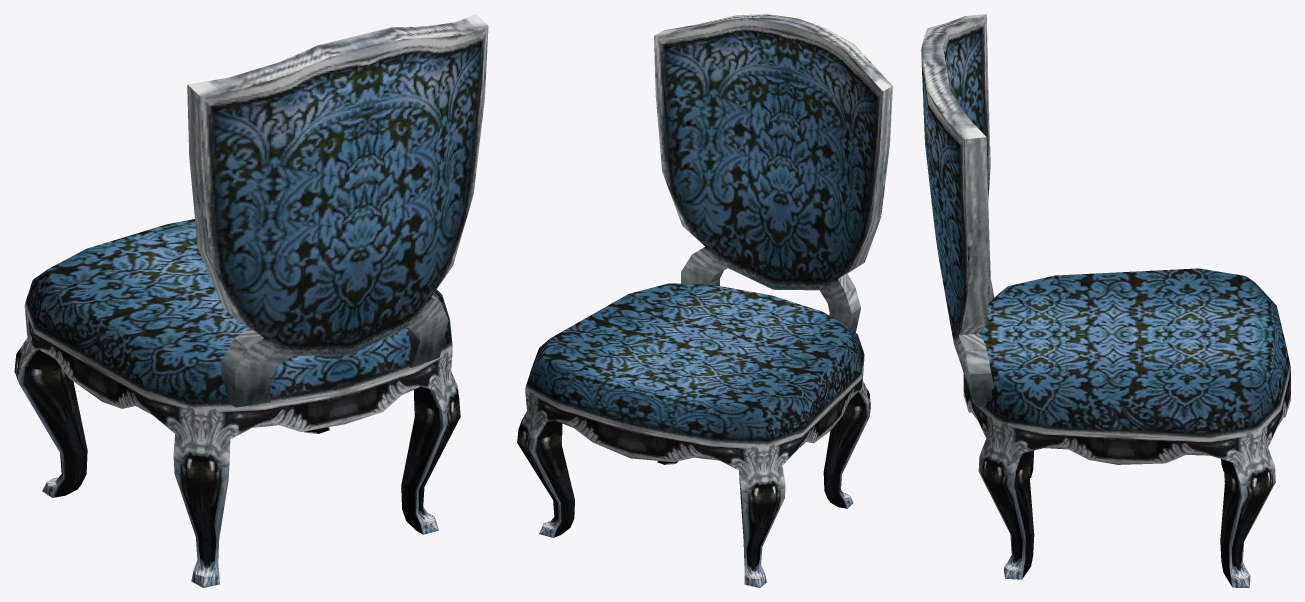
Rendered from furni_0201207_01.FBX.
3 renders of one model, left to right at view 1: azimuth 30°, elevation 25°; view 2: azimuth 150°, elevation 25°; view 3: azimuth 270°, elevation 25°, orthographic. The views are drawn at different scales.
Visible parts, largest first — view 1: furni_0201207_01; view 2: furni_0201207_01; view 3: furni_0201207_01.
Part boxes in pixels (<box>): furni_0201207_01: <box>14,14,488,587</box>; furni_0201207_01: <box>517,14,892,587</box>; furni_0201207_01: <box>921,14,1290,587</box>.
Bounding box in the file's own units: 72.78 × 112 × 78.13.
